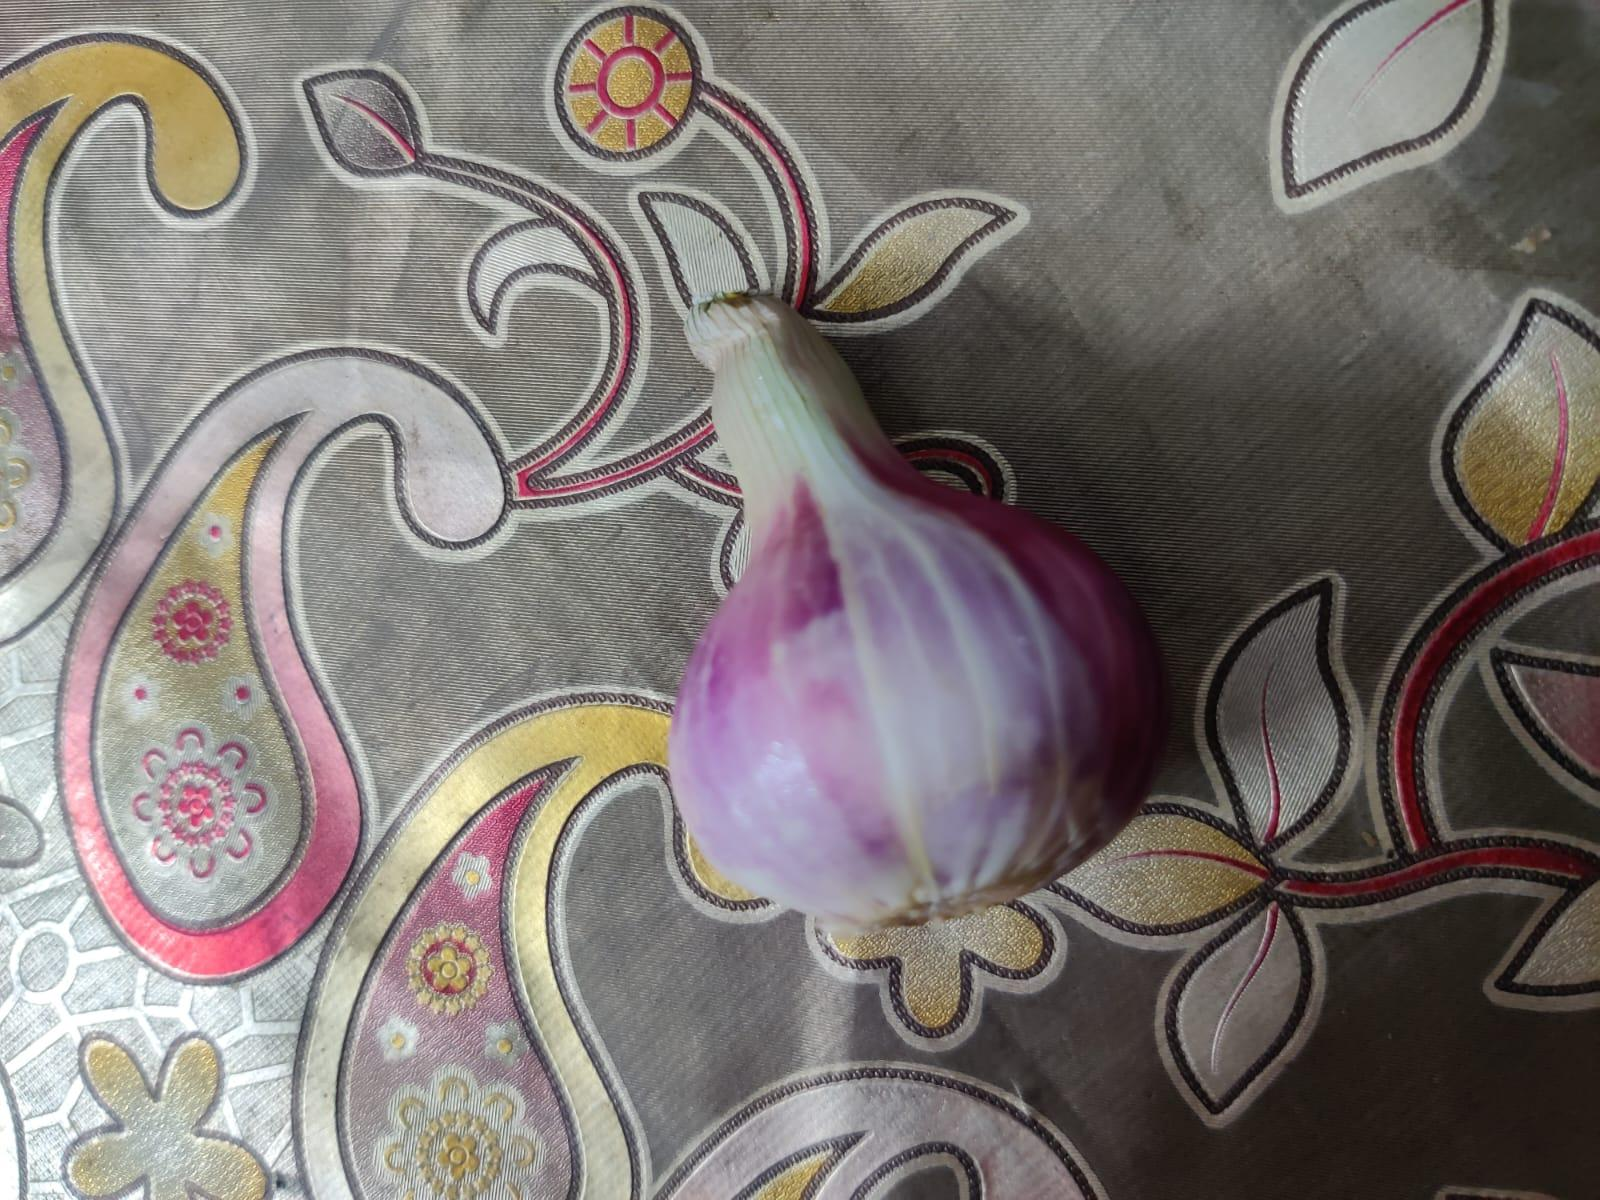non-mango: (646, 291, 1167, 952)
